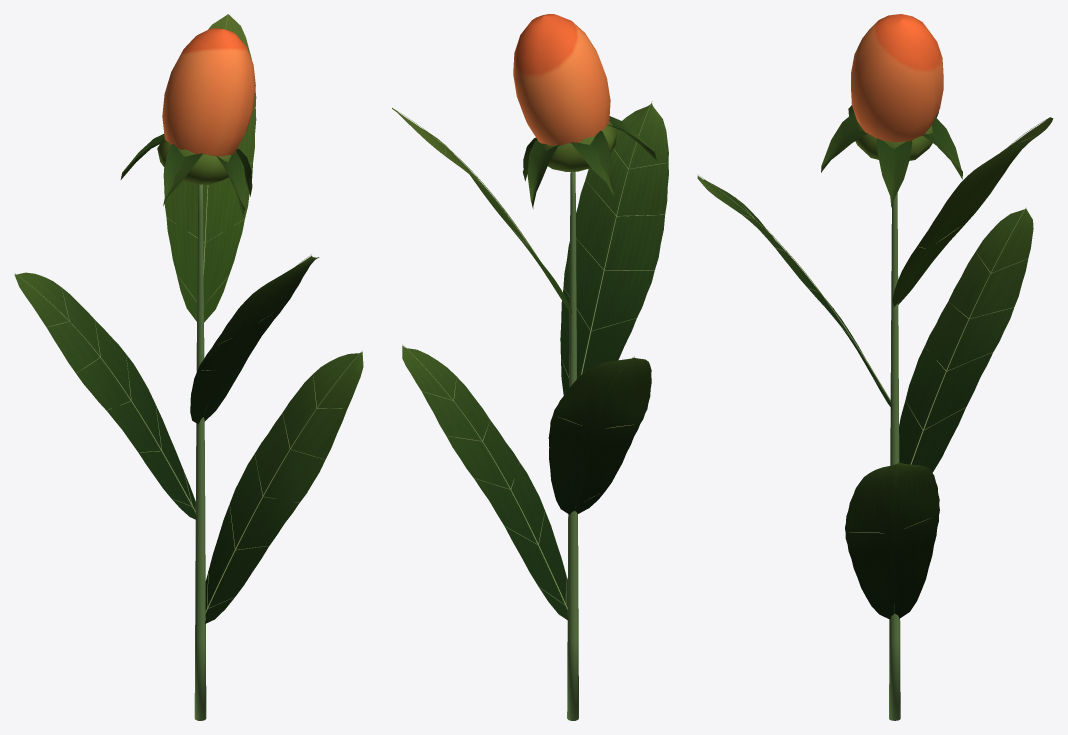
Rendered from tulip-08.glb.
3 views of the same model, side by side, from view 1: azimuth 30°, elevation 25°; view 2: azimuth 150°, elevation 25°; view 3: azimuth 270°, elevation 25° (orthographic). The views are drawn at different scales.
Visible parts, largest first — view 1: tulip_stage_08_leaf_veins.014, tulip_stage_08_young_leaf.014, tulip_stage_08_tulip_petal.014, tulip_stage_08_stem_fibres.014, tulip_stage_08_raised_midveins.014; view 2: tulip_stage_08_leaf_veins.014, tulip_stage_08_tulip_petal.014, tulip_stage_08_stem_fibres.014, tulip_stage_08_young_leaf.014, tulip_stage_08_raised_midveins.014; view 3: tulip_stage_08_leaf_veins.014, tulip_stage_08_tulip_petal.014, tulip_stage_08_young_leaf.014, tulip_stage_08_stem_fibres.014, tulip_stage_08_raised_midveins.014.
Part boxes in pixels (x1,y1,x2,y2): tulip_stage_08_leaf_veins.014: (14, 134, 363, 623); tulip_stage_08_young_leaf.014: (157, 14, 256, 322); tulip_stage_08_tulip_petal.014: (162, 28, 255, 156); tulip_stage_08_stem_fibres.014: (194, 184, 206, 720); tulip_stage_08_raised_midveins.014: (15, 14, 362, 613); tulip_stage_08_leaf_veins.014: (402, 103, 668, 620); tulip_stage_08_tulip_petal.014: (513, 14, 610, 145); tulip_stage_08_stem_fibres.014: (567, 172, 578, 720); tulip_stage_08_young_leaf.014: (392, 108, 617, 314); tulip_stage_08_raised_midveins.014: (393, 101, 667, 609); tulip_stage_08_leaf_veins.014: (697, 105, 1033, 619); tulip_stage_08_tulip_petal.014: (851, 14, 943, 142); tulip_stage_08_young_leaf.014: (855, 117, 1053, 306); tulip_stage_08_stem_fibres.014: (889, 193, 900, 720); tulip_stage_08_raised_midveins.014: (697, 117, 1049, 613).
Size of the model in its own units: 0.2296 by 0.5146 by 0.2334.
Materials: 5 (3 with a texture image).
